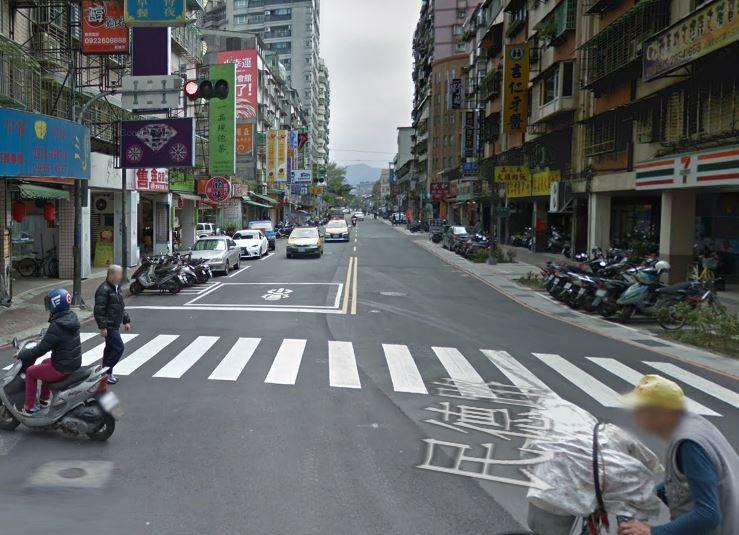red_traffic_light: (181, 77, 229, 99)
